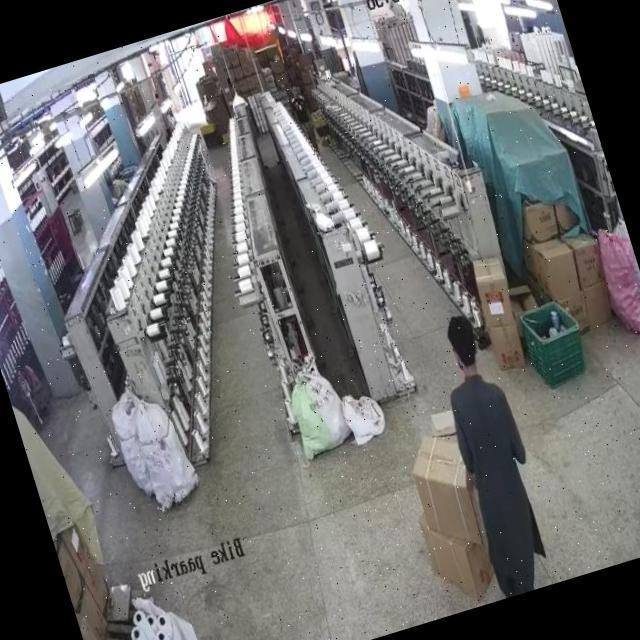person: (415, 314, 555, 601), (286, 79, 318, 142)
